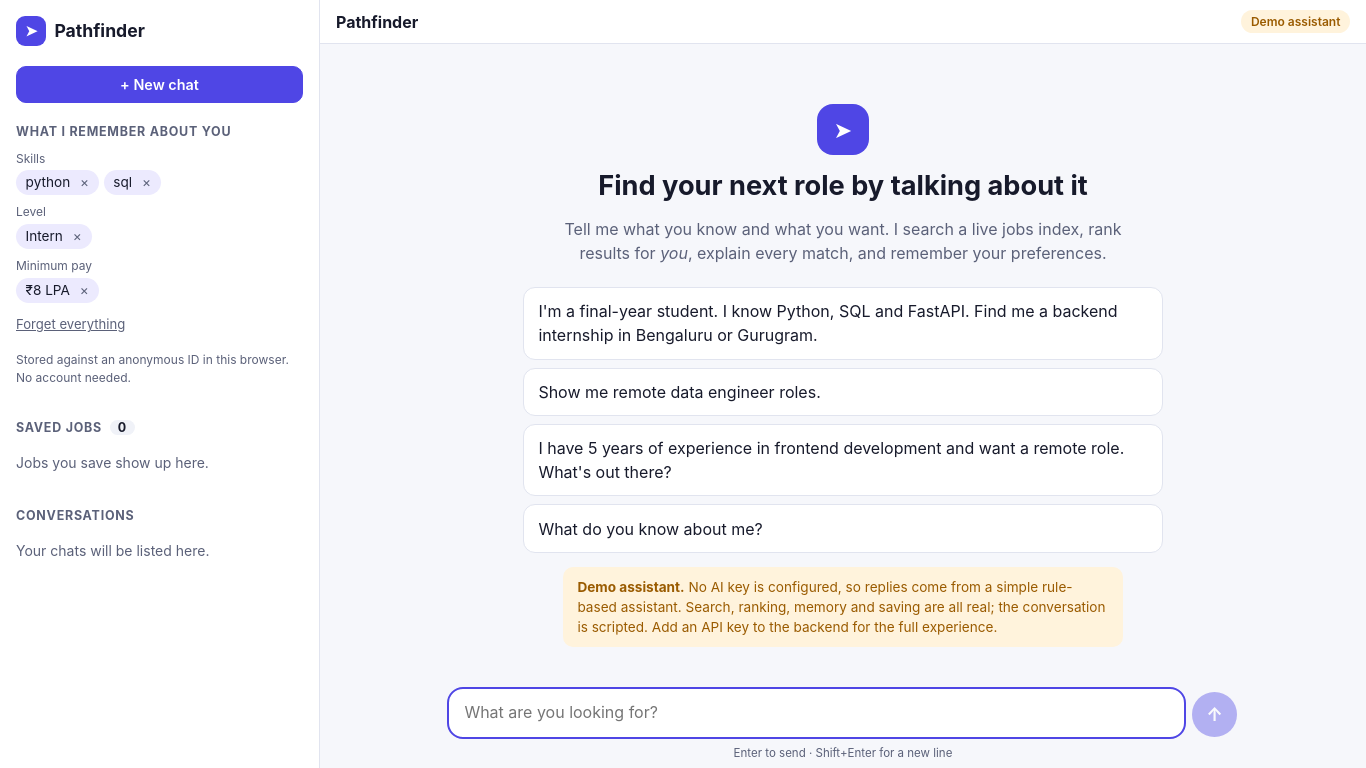
Test: App › memory panel: shows what's remembered, lets you forget one skill or everything
Expected: the heading "What I remember about you" is shown, [16,124,231,139]
Expected: the list item "python" is shown, [26,174,70,190]
Click the button named "Forget python" at x=85, y=183, box [73,172,96,194]
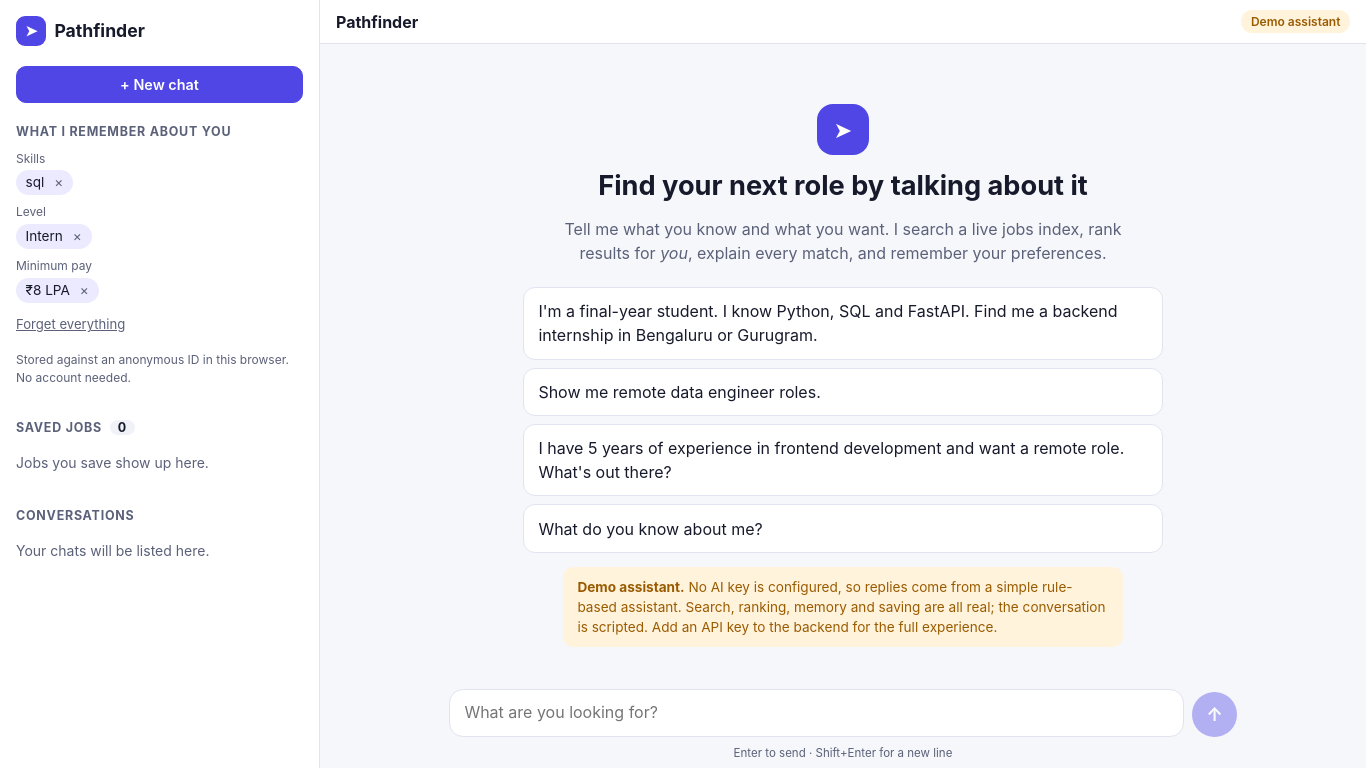
Click the button "Forget everything" at x=71, y=325, box [16,311,125,339]
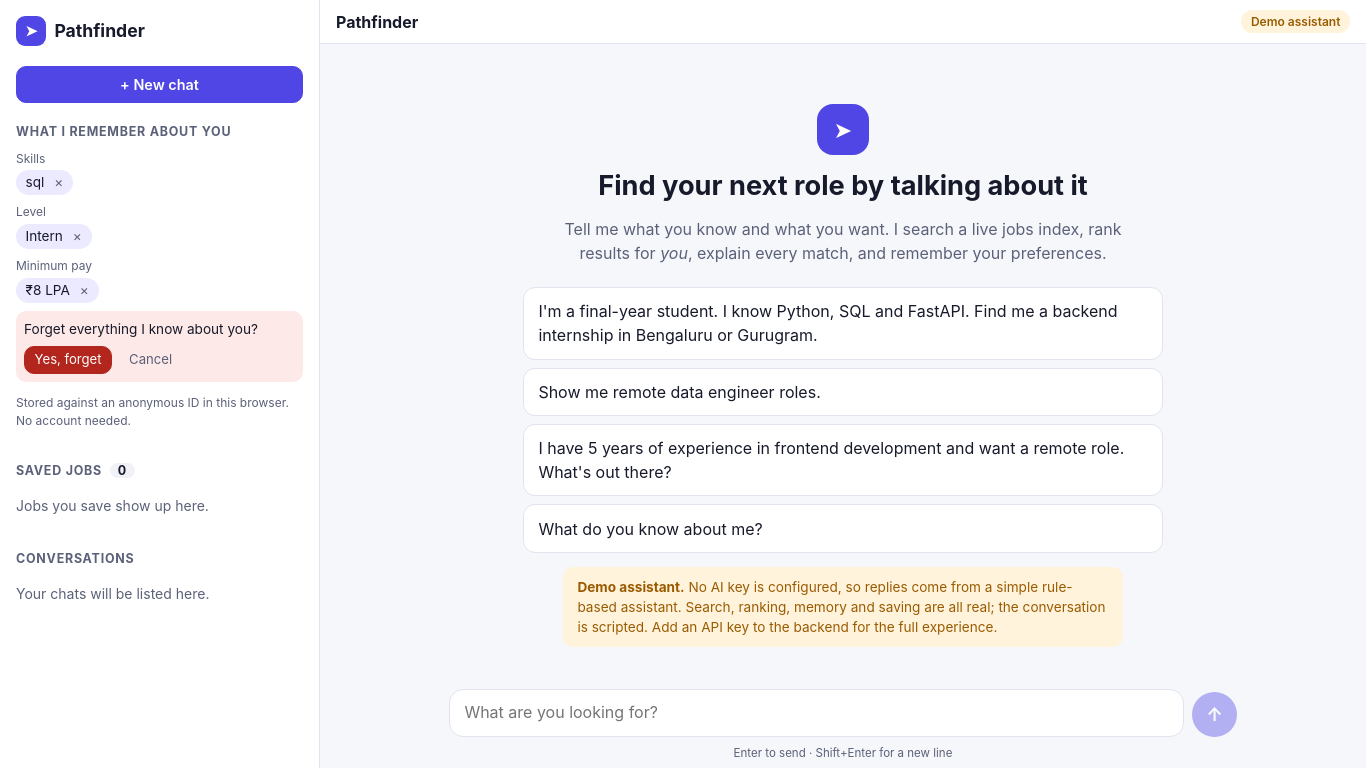
Click the button "Yes, forget" at x=68, y=360, box [24,346,112,374]
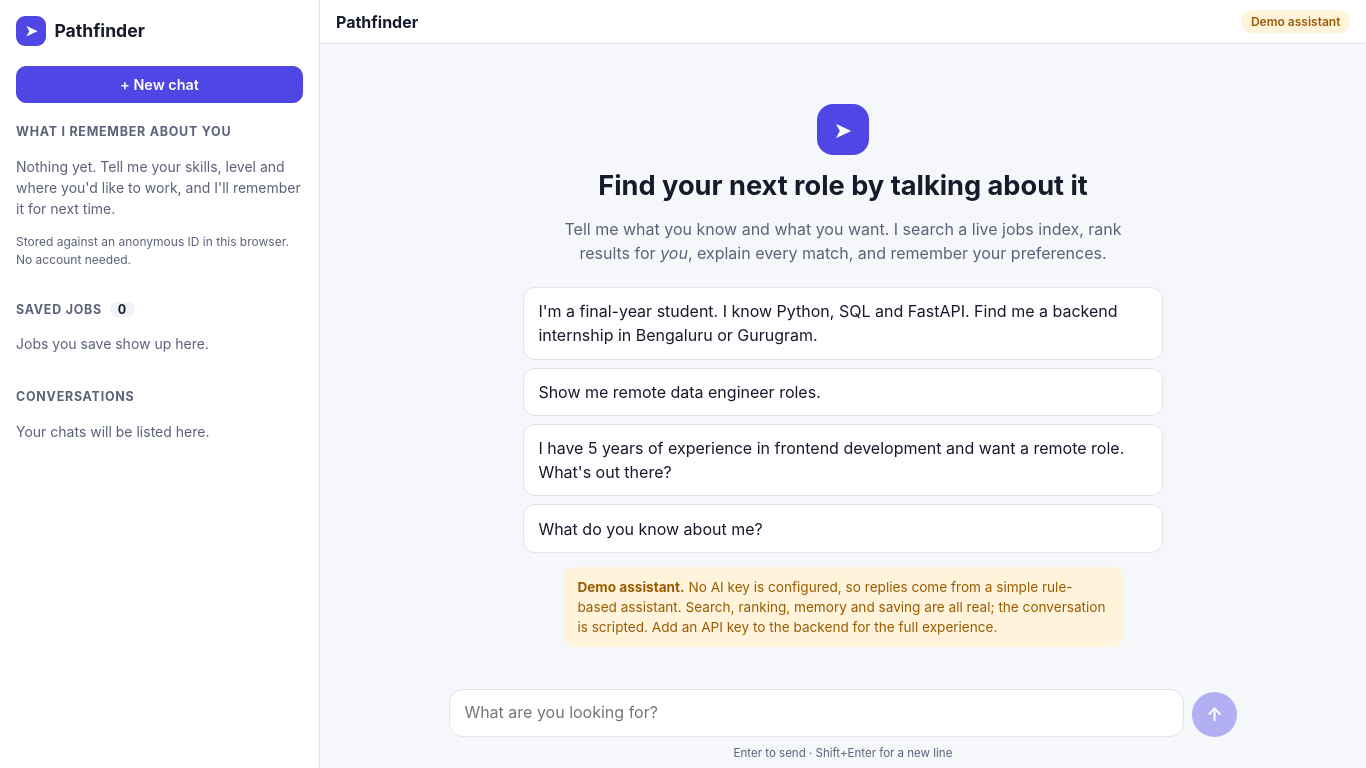
Now the text "Nothing yet" is shown, box [16,158,301,216]
